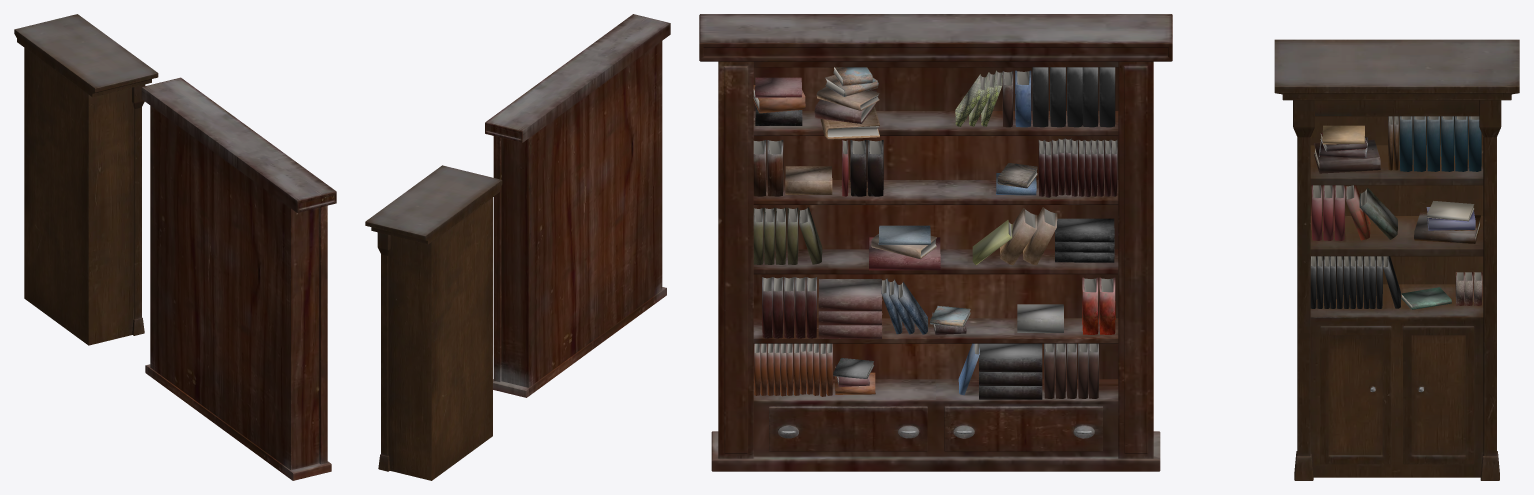
Rendered from terr_dusty_bookshelfs.glb.
3 renders of one model, left to right at view 1: azimuth 30°, elevation 25°; view 2: azimuth 150°, elevation 25°; view 3: azimuth 270°, elevation 25°, orthographic. The views are drawn at different scales.
Visible parts, largest first — view 1: bokkshelf'_Material.003_0; view 2: bokkshelf'_Material.003_0; view 3: bokkshelf'_Material.003_0.
Part boxes in pixels (x1=…): bokkshelf'_Material.003_0: x1=14, y1=14, x2=336, y2=480; bokkshelf'_Material.003_0: x1=365, y1=14, x2=670, y2=480; bokkshelf'_Material.003_0: x1=699, y1=14, x2=1519, y2=480.
Bounding box in the file's own units: 0.0541 × 0.234 × 0.4.
Materials: 4 (4 with a texture image).
